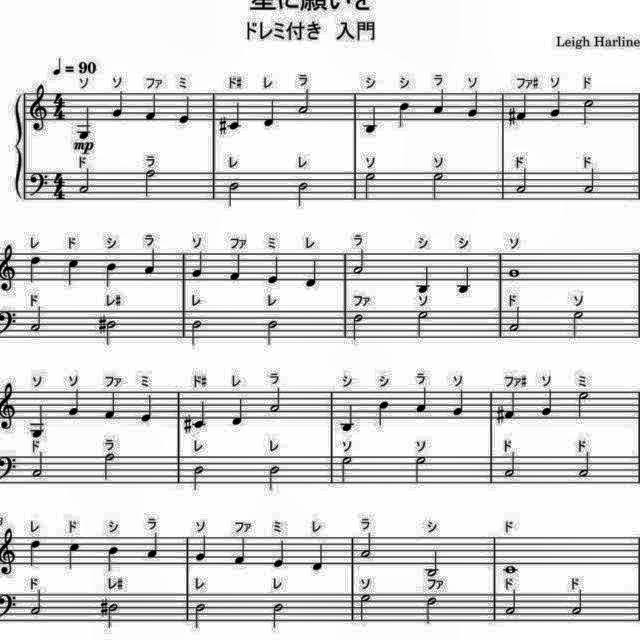Bass-clef: (26, 166, 49, 202)
Diez: (495, 400, 507, 428), (216, 112, 228, 138), (96, 310, 108, 336), (180, 412, 192, 436), (96, 594, 108, 618), (506, 104, 518, 126)
Full-note: (500, 563, 522, 577), (506, 264, 522, 280)
Half-note: (138, 168, 162, 198), (295, 85, 317, 116), (569, 308, 587, 344), (224, 182, 244, 214), (510, 166, 530, 198), (193, 600, 213, 632), (268, 602, 290, 630), (430, 170, 448, 204), (414, 309, 432, 343), (26, 305, 46, 335), (263, 317, 283, 347), (189, 318, 207, 350), (348, 310, 366, 342), (101, 450, 119, 482), (423, 546, 441, 578), (358, 529, 376, 561), (412, 454, 428, 488), (581, 167, 599, 197), (29, 450, 47, 480), (503, 450, 521, 480), (27, 589, 45, 619), (266, 462, 282, 494), (358, 592, 374, 624), (423, 594, 439, 626), (267, 386, 285, 414), (352, 248, 370, 276), (580, 96, 596, 126), (294, 180, 310, 210), (362, 171, 378, 201), (504, 587, 520, 617), (192, 464, 206, 496), (341, 456, 355, 488), (576, 450, 592, 478), (570, 588, 586, 616), (575, 388, 589, 419), (106, 600, 120, 630), (78, 168, 92, 196), (509, 306, 523, 334), (106, 318, 118, 349)
Quarter-note: (26, 403, 48, 441), (226, 101, 248, 135), (75, 104, 95, 140), (140, 88, 160, 124), (191, 394, 209, 434), (108, 87, 128, 121), (360, 102, 380, 136), (300, 258, 320, 292), (174, 94, 194, 126), (262, 254, 282, 286), (412, 262, 432, 294), (456, 264, 476, 296), (338, 402, 358, 434), (261, 96, 279, 130), (308, 540, 326, 574), (102, 542, 121, 574), (431, 86, 449, 118), (466, 88, 484, 120), (516, 90, 532, 126), (65, 386, 83, 418), (413, 384, 431, 416), (539, 388, 557, 420), (270, 534, 286, 570), (546, 88, 562, 122), (64, 256, 80, 290), (192, 530, 208, 564), (232, 534, 248, 568), (66, 539, 84, 569), (395, 98, 411, 130), (142, 246, 158, 278), (104, 389, 120, 421), (140, 394, 156, 426), (230, 396, 246, 428), (374, 397, 390, 429), (144, 530, 160, 562), (505, 390, 519, 426), (104, 260, 120, 290), (29, 252, 43, 286), (452, 386, 466, 419), (191, 250, 205, 282), (229, 250, 243, 282), (28, 536, 42, 568)
Treble-clef: (27, 82, 49, 136)
